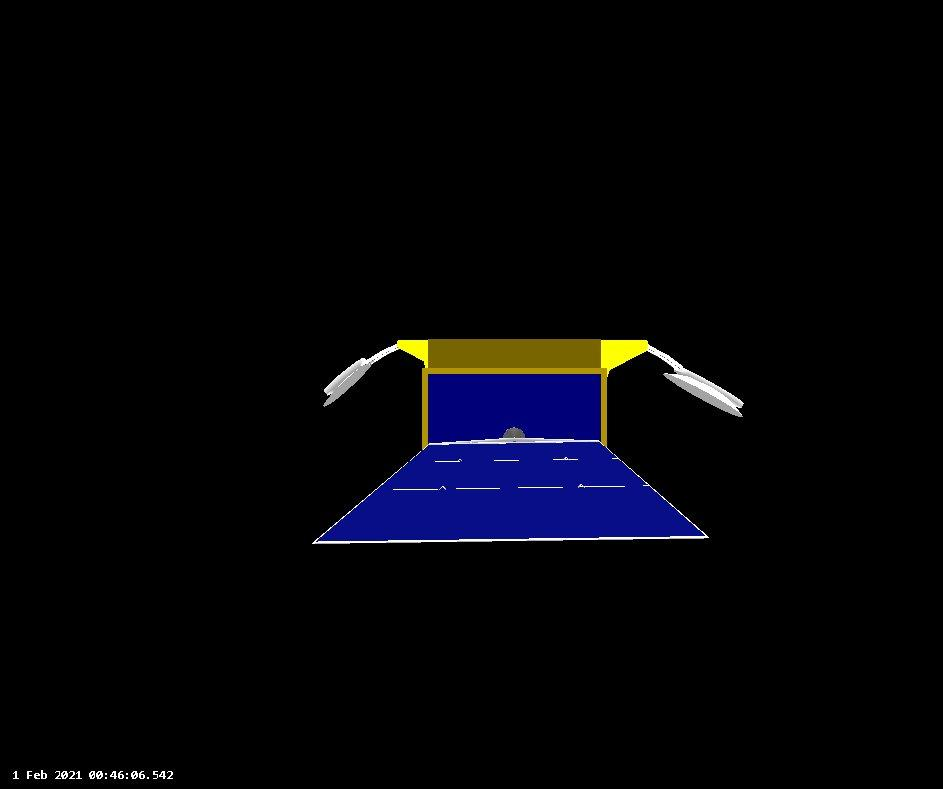antenna: (661, 369, 746, 418), (318, 352, 370, 410)
body: (393, 334, 654, 451)
solar: (306, 435, 712, 549)
